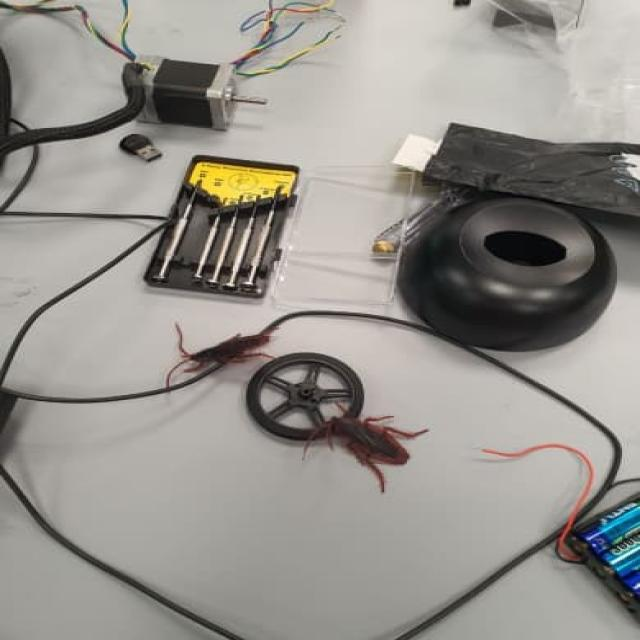Cockroach: (292, 404, 437, 491), (161, 314, 282, 385)
